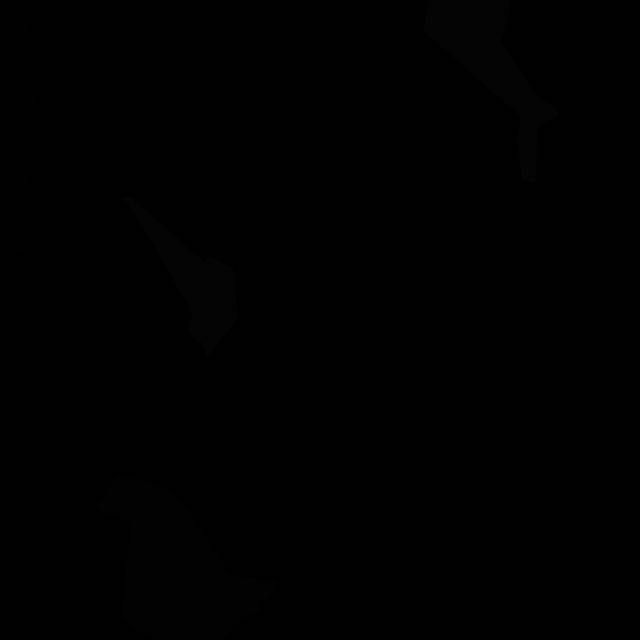cardboard: (94, 473, 278, 640)
rigid_plastic: (0, 0, 46, 256)
soft_plastic: (423, 0, 558, 183), (123, 198, 238, 358)
